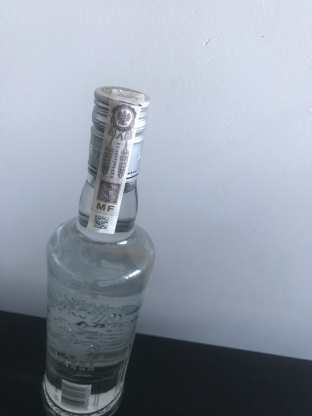nakretka: (85, 79, 152, 185)
